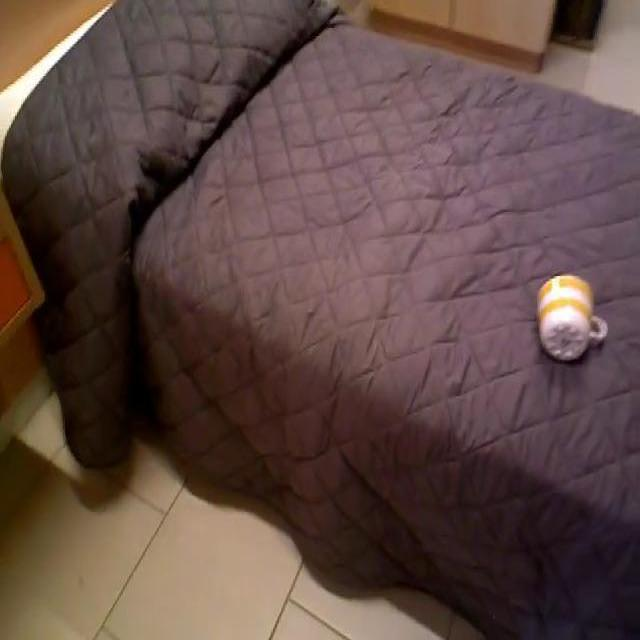cup: (538, 273, 608, 367)
